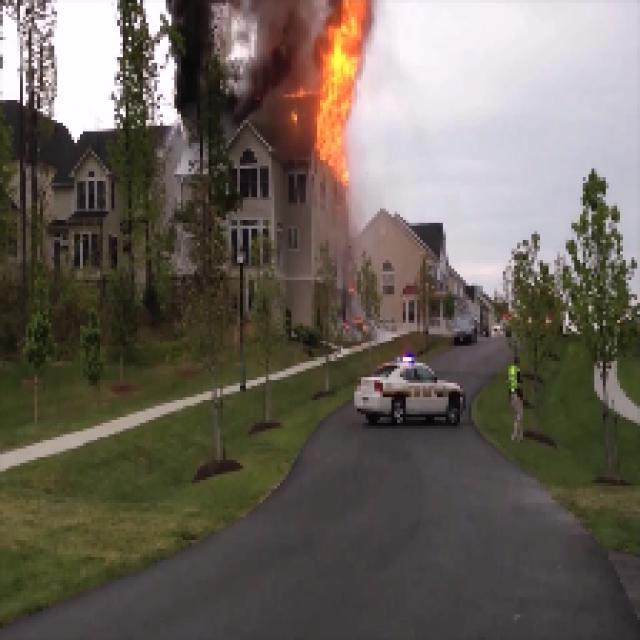fire: (317, 5, 353, 159)
smoke: (180, 0, 288, 112)
